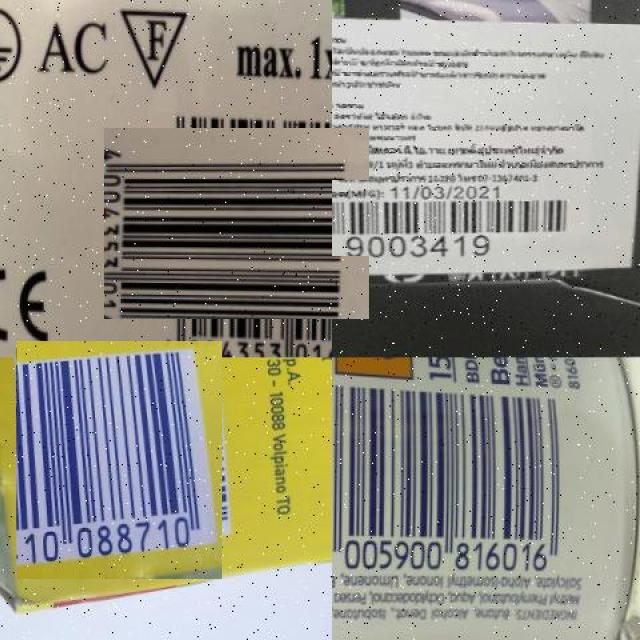Barcode: (122, 110, 351, 338), (8, 349, 231, 571), (332, 376, 580, 571), (332, 180, 584, 256)
